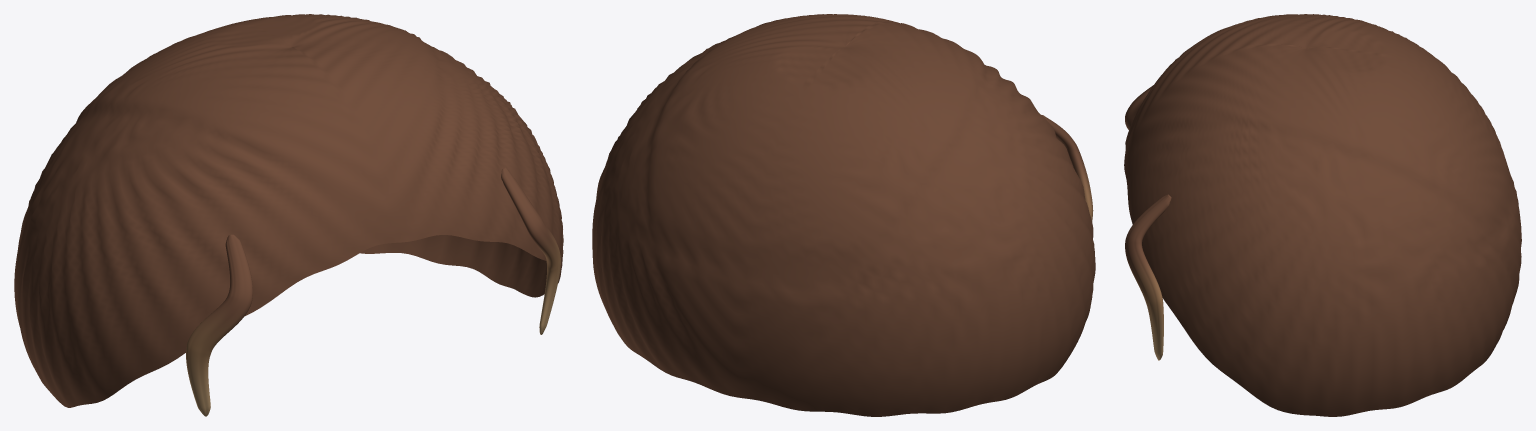
File: Ombre-c4b43c311630253-hair.glb
The picture shows the model from 3 angles, left to right: view 1: azimuth 30°, elevation 25°; view 2: azimuth 150°, elevation 25°; view 3: azimuth 270°, elevation 25°; orthographic projection. The views are drawn at different scales.
Parts seen in each view (by area): view 1: 226 hair / Hair / chestnut226.002; view 2: 226 hair / Hair / chestnut226.002; view 3: 226 hair / Hair / chestnut226.002.
Boxes of the visible parts, bbox=[...] form: 226 hair / Hair / chestnut226.002: bbox=[14, 14, 563, 416]; 226 hair / Hair / chestnut226.002: bbox=[592, 14, 1095, 416]; 226 hair / Hair / chestnut226.002: bbox=[1124, 14, 1521, 416].
Size of the model in its own units: 0.9988 by 0.599 by 0.7845.
1 material, 1 textured.
